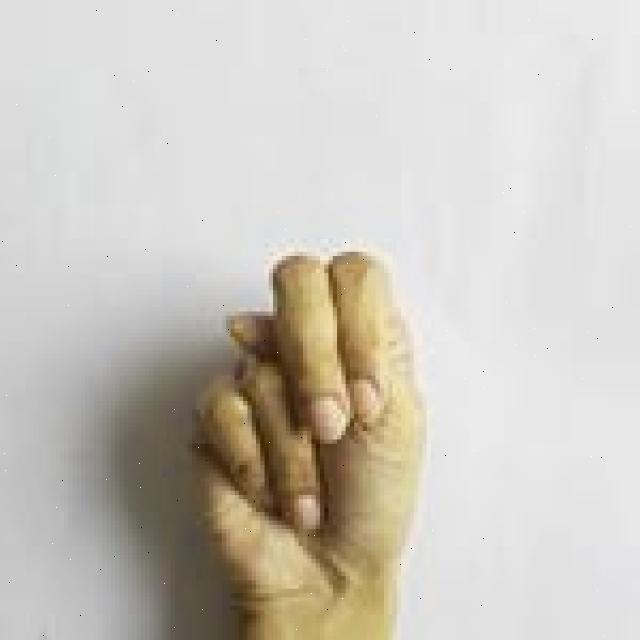N: (169, 241, 439, 640)
